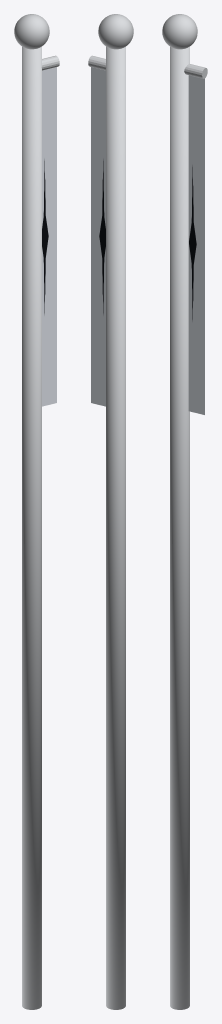
File: flag.glb
3 views of the same model, side by side, from view 1: azimuth 30°, elevation 25°; view 2: azimuth 150°, elevation 25°; view 3: azimuth 330°, elevation 25° (orthographic).
Visible parts, largest first — view 1: Pole, FlagCloth, PoleKnob, CrossBar; view 2: Pole, FlagCloth, PoleKnob, CrossBar; view 3: Pole, FlagCloth, PoleKnob, CrossBar.
Boxes of the visible parts, x1,y1,x2,y2 form: Pole: [22, 46, 41, 1009]; FlagCloth: [42, 67, 56, 406]; PoleKnob: [14, 14, 49, 49]; CrossBar: [41, 55, 59, 70]; Pole: [106, 46, 125, 1009]; FlagCloth: [91, 67, 105, 406]; PoleKnob: [98, 14, 133, 49]; CrossBar: [88, 55, 106, 70]; Pole: [170, 46, 189, 1009]; FlagCloth: [188, 75, 204, 414]; PoleKnob: [162, 14, 197, 49]; CrossBar: [184, 63, 207, 78].
Size of the model in its own units: 0.1315 by 3.07 by 0.1.
2 materials, 1 textured.
